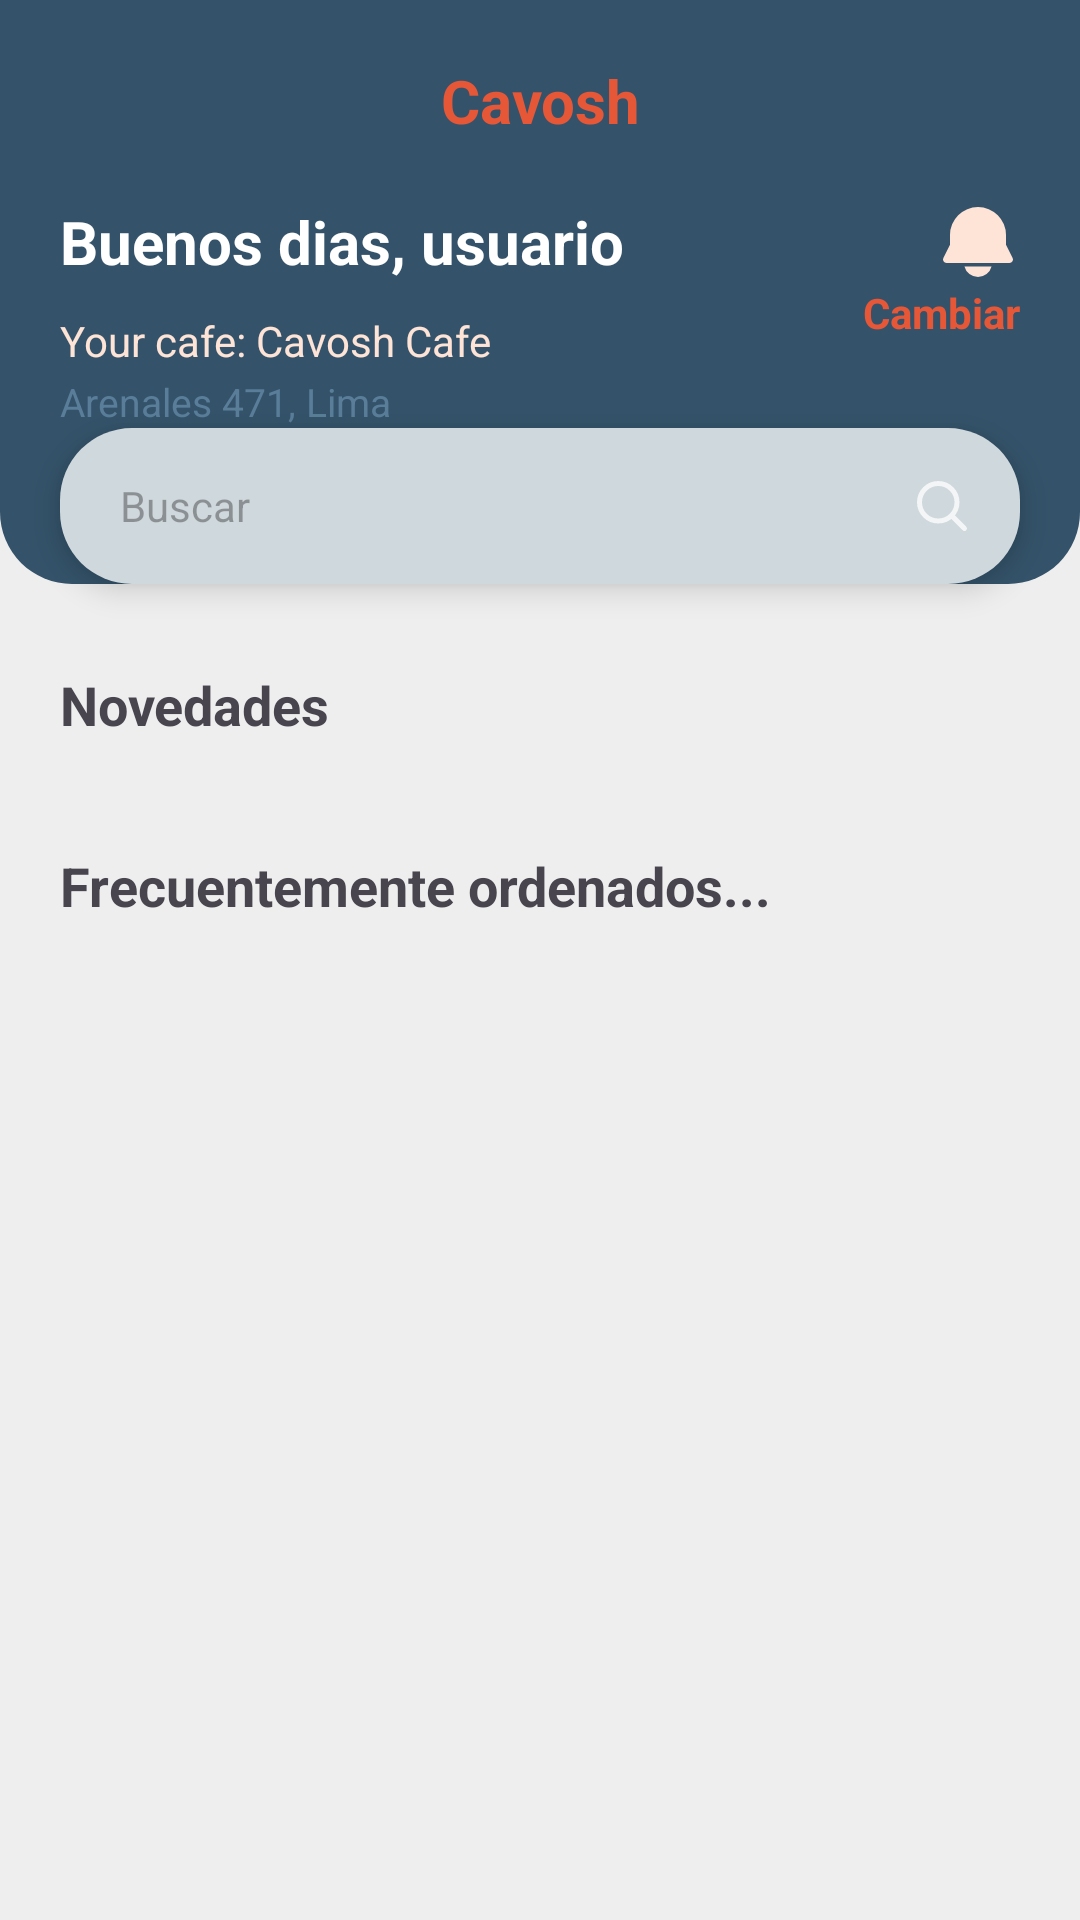

Icon bounding boxes for this 1080×1920 phone screenshot, format (x1, y1, x2, y2):
notificacion: (943, 207, 1013, 277)
